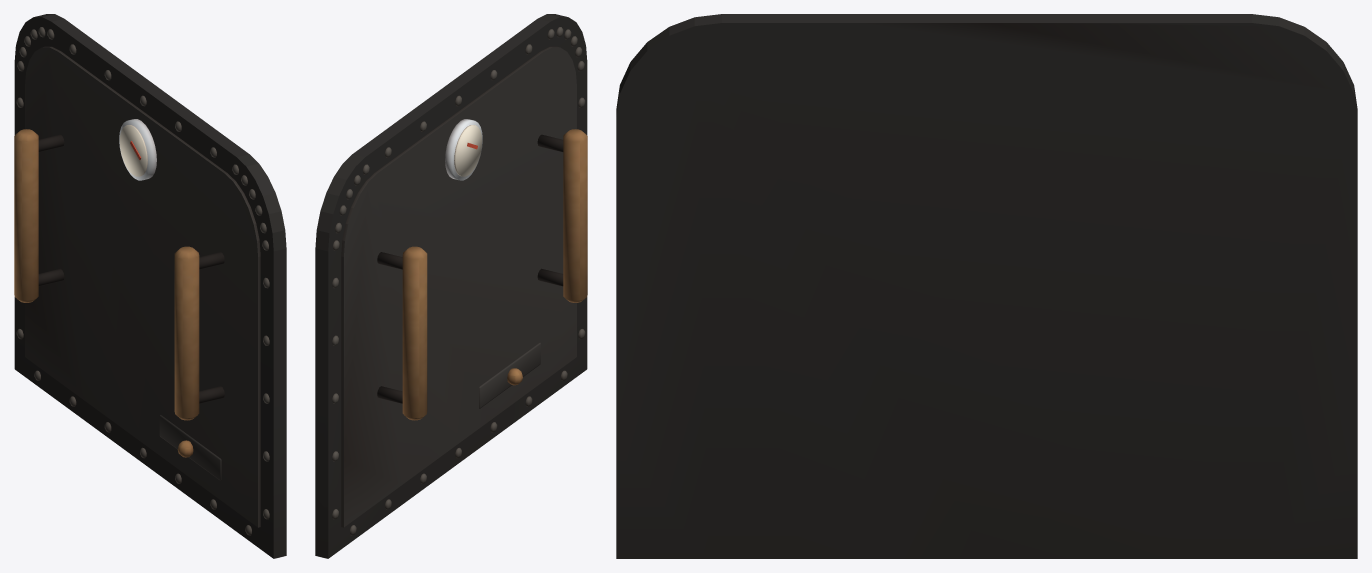
Rendered from fp-oven_door-iron.gltf.
3 views of the same model, side by side, from view 1: azimuth 30°, elevation 25°; view 2: azimuth 150°, elevation 25°; view 3: azimuth 270°, elevation 25° (orthographic). The views are drawn at different scales.
Parts seen in each view (by area): view 1: model; view 2: model; view 3: model.
Boxes of the visible parts, <box> form: model: <box>14,14,286,558</box>; model: <box>315,14,587,558</box>; model: <box>616,14,1357,558</box>.
Bounding box in the file's own units: 0.1135 × 0.67 × 0.84.
Materials: 8 (1 with a texture image).
